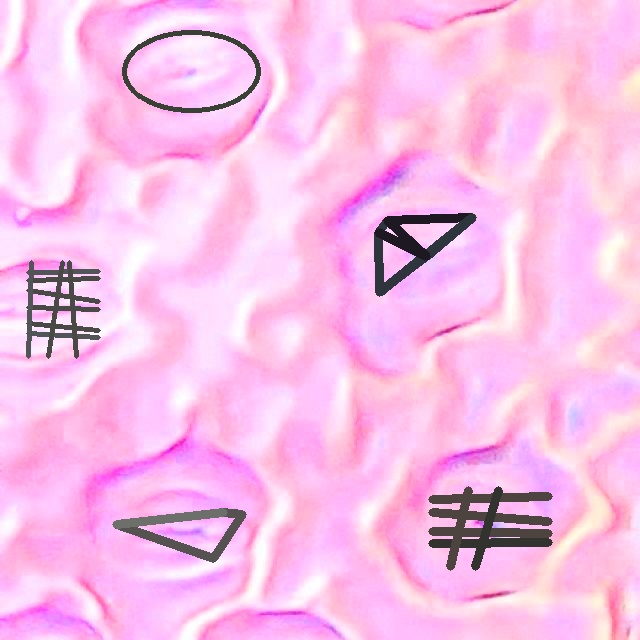close: (429, 486, 552, 570)
open: (121, 29, 261, 113), (375, 217, 476, 296), (27, 260, 100, 357), (113, 509, 246, 561)
